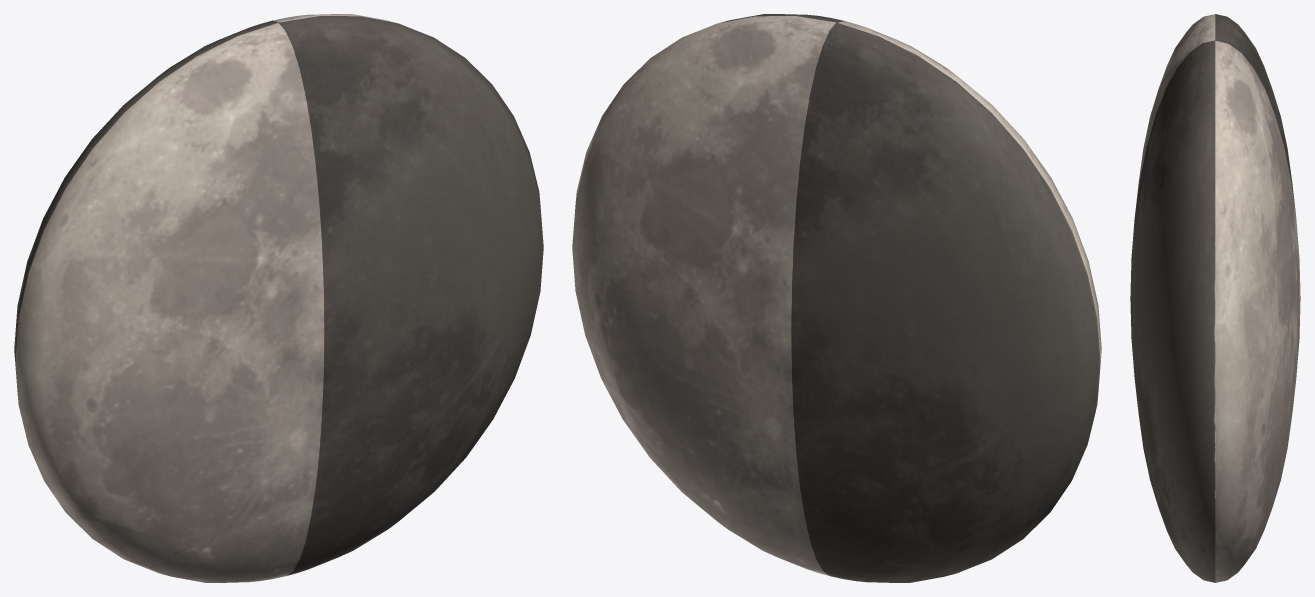
Rendered from SM_MoonPhase7_ThirdQuarter.fbx.
The picture shows the model from 3 angles, left to right: view 1: azimuth 30°, elevation 25°; view 2: azimuth 150°, elevation 25°; view 3: azimuth 270°, elevation 25°; orthographic projection. The views are drawn at different scales.
Visible parts, largest first — view 1: pSphere7; view 2: pSphere7; view 3: pSphere7.
Part boxes in pixels (box(x1,y1,x2,y2)): pSphere7: box(14, 14, 543, 582); pSphere7: box(572, 14, 1101, 582); pSphere7: box(1130, 14, 1300, 582).
Bounding box in the file's own units: 158 × 158 × 47.13.
